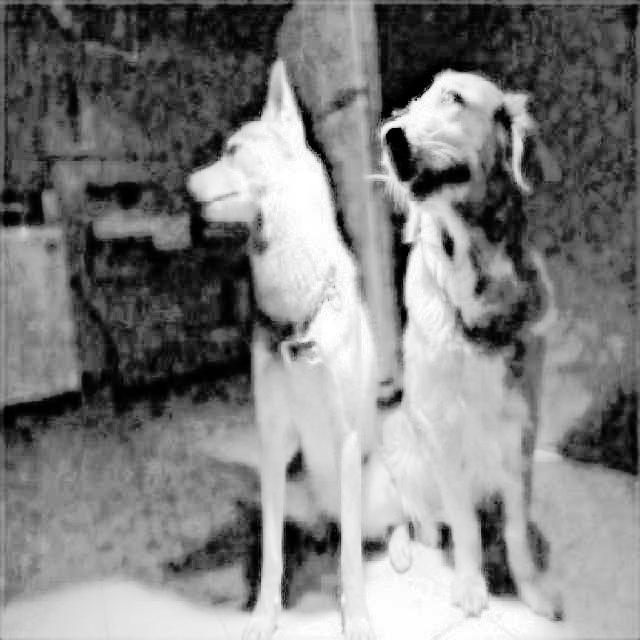Dog: (190, 49, 396, 640), (375, 65, 572, 625)
